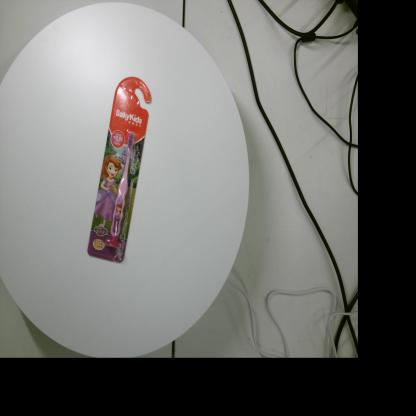Personal Hygiene: (87, 76, 151, 263)
